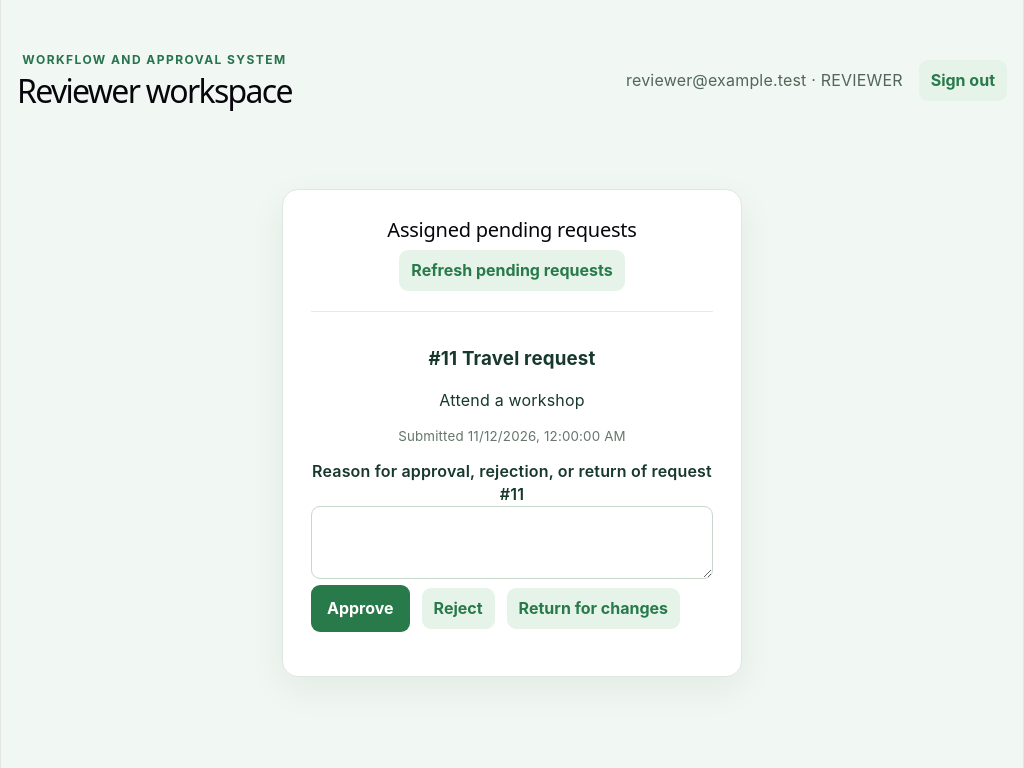
Test: F-03 Reviewer workspace through the application › TEST-F03-UI-02/03: saves REJECTED then refreshes the list
Type "Budget limit exceeded" into the text box labelled "Reason for approval, rejection, or return of request #11" at (512, 543), box [311, 506, 713, 579]
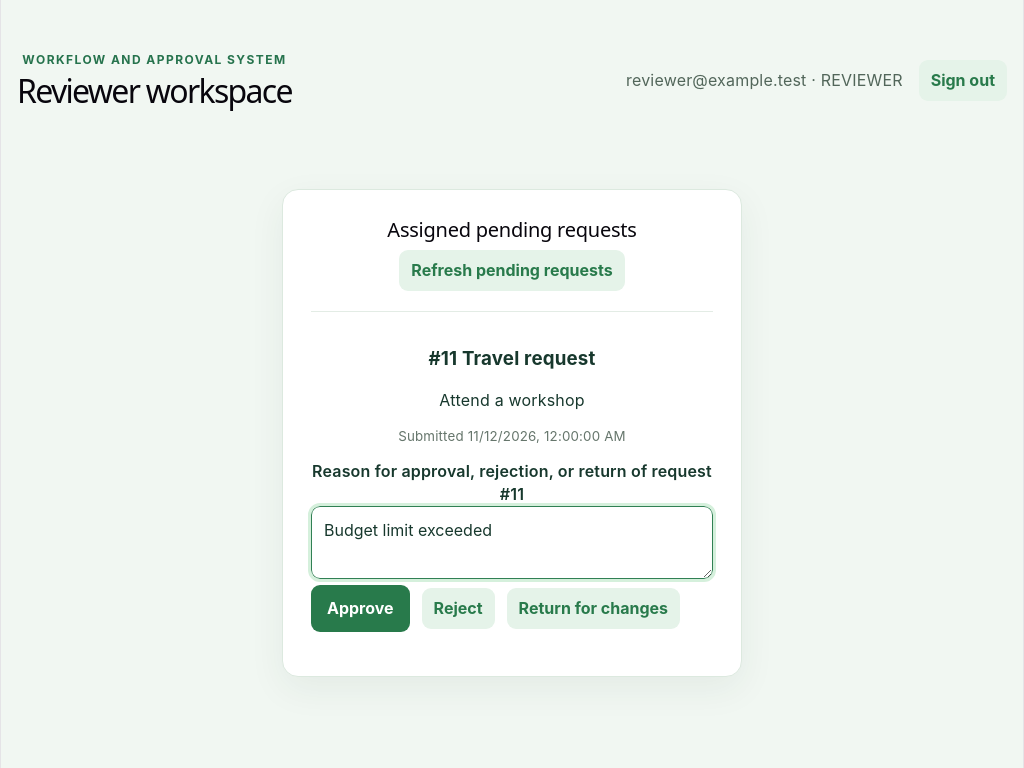
Click the button with aria-label "Reject request #11" at (458, 609), box [422, 588, 495, 629]
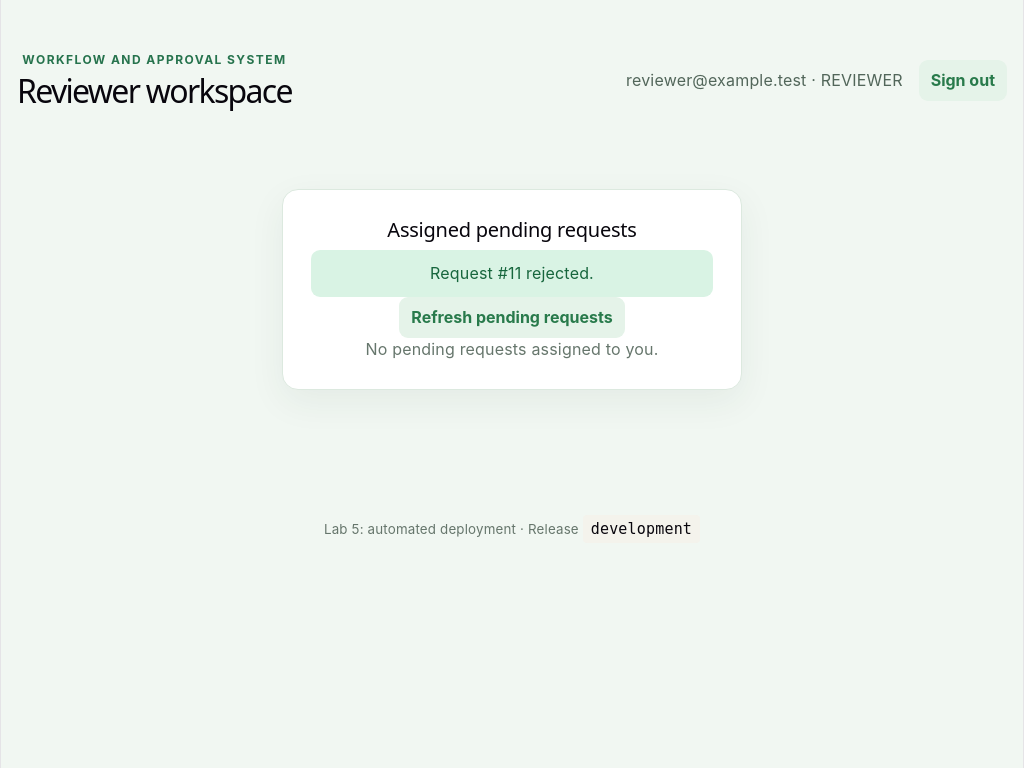
Check: the text "Request #11 rejected." is shown, box [311, 250, 713, 297]
Check: the text "No pending requests assigned to you." is shown, box [366, 339, 658, 359]
Check: the text "Travel request" is gone
